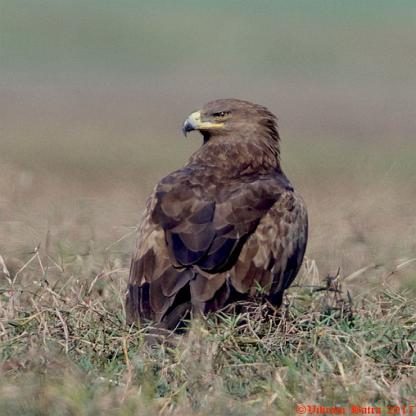Burung: (122, 99, 310, 345)
